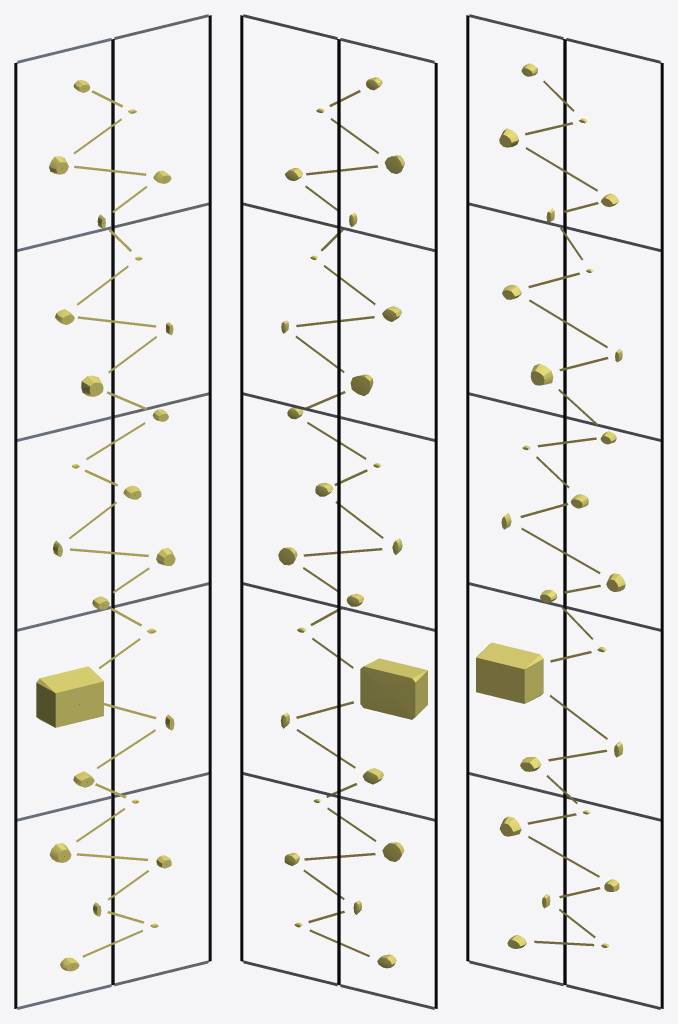
File: tt_climb_lead_routes_a.glb
The picture shows the model from 3 angles, left to right: view 1: azimuth 30°, elevation 25°; view 2: azimuth 150°, elevation 25°; view 3: azimuth 330°, elevation 25°; orthographic projection.
Parts seen in each view (by area): view 1: Grid_Mullion, Holds_PU, Route_Tape, Grid_Course_L, Grid_Course_R; view 2: Grid_Mullion, Holds_PU, Route_Tape, Grid_Course_L, Grid_Course_R; view 3: Grid_Mullion, Holds_PU, Route_Tape, Grid_Course_R, Grid_Course_L.
Boxes of the visible parts, left/top/right/bottom form: Grid_Mullion: left=14, top=15, right=211, bottom=1008; Holds_PU: left=36, top=80, right=175, bottom=971; Route_Tape: left=69, top=90, right=156, bottom=957; Grid_Course_L: left=17, top=38, right=111, bottom=1009; Grid_Course_R: left=114, top=14, right=208, bottom=986; Grid_Mullion: left=240, top=15, right=437, bottom=1008; Holds_PU: left=278, top=77, right=427, bottom=968; Route_Tape: left=295, top=90, right=383, bottom=956; Grid_Course_L: left=340, top=38, right=434, bottom=1009; Grid_Course_R: left=243, top=14, right=337, bottom=986; Grid_Mullion: left=466, top=15, right=663, bottom=1008; Holds_PU: left=476, top=63, right=625, bottom=948; Route_Tape: left=520, top=80, right=608, bottom=946; Grid_Course_R: left=566, top=38, right=660, bottom=1009; Grid_Course_L: left=469, top=14, right=563, bottom=986.
Size of what is drawn, in the model's own units: 2.5 by 11.5 by 0.364.
5 materials, 2 textured.
